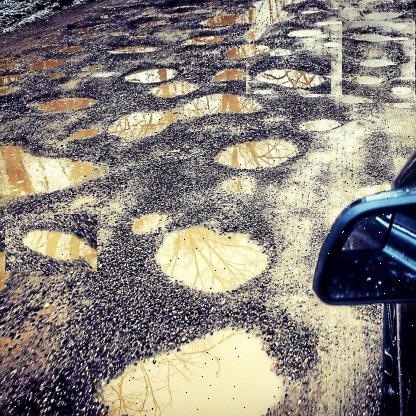damage: (342, 21, 416, 104)
pothole_water: (148, 216, 292, 299), (209, 121, 310, 185), (5, 214, 98, 272), (246, 59, 332, 95), (24, 84, 106, 116), (116, 60, 189, 90)
